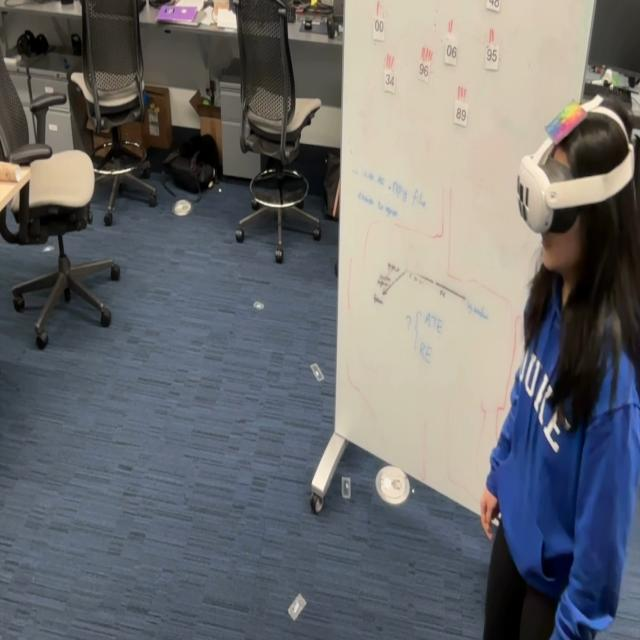Headset: (516, 97, 636, 235)
Marker: (544, 97, 592, 145)
